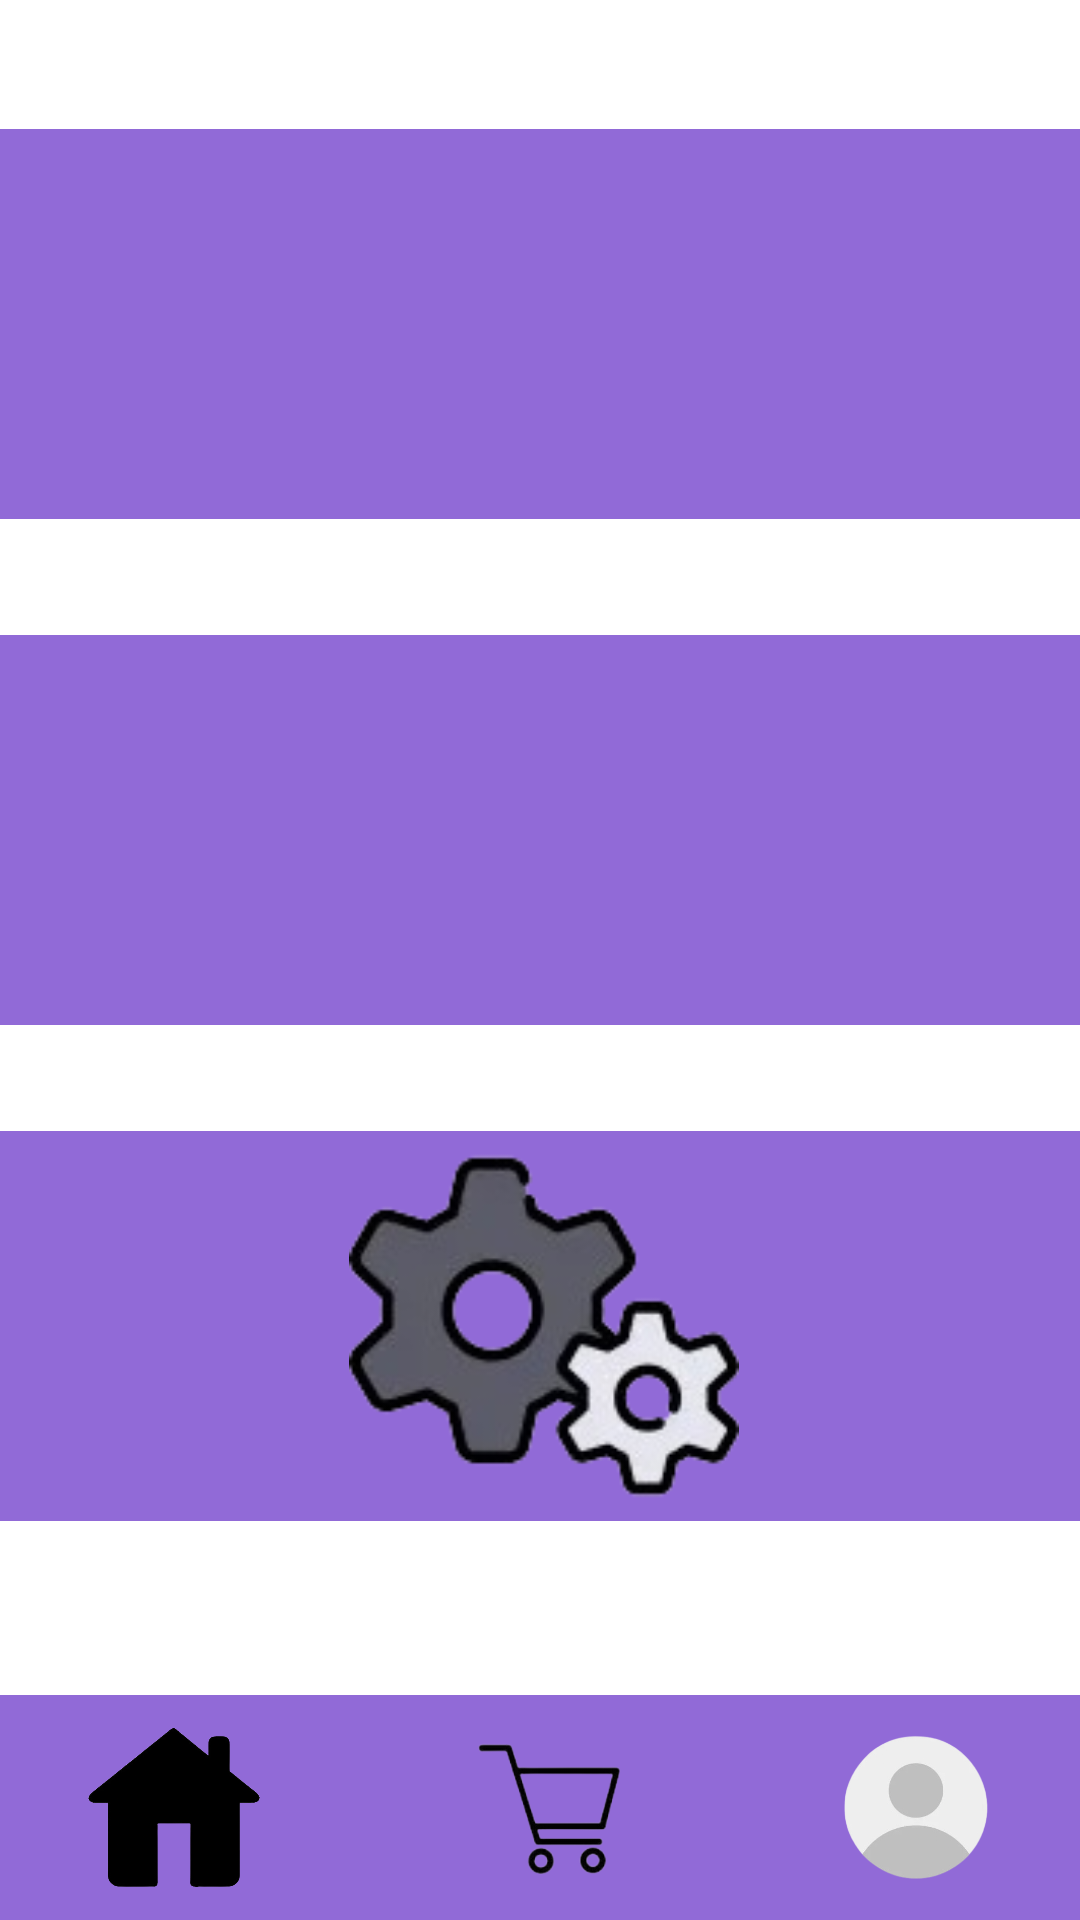

Screen size 1080 x 1920. Icon name, then its box in pixels as bbox=(x1, y1, x2, y2):
carrito: bbox=(479, 1744, 620, 1874)
casa: bbox=(88, 1728, 260, 1887)
perfil: bbox=(844, 1736, 988, 1879)
